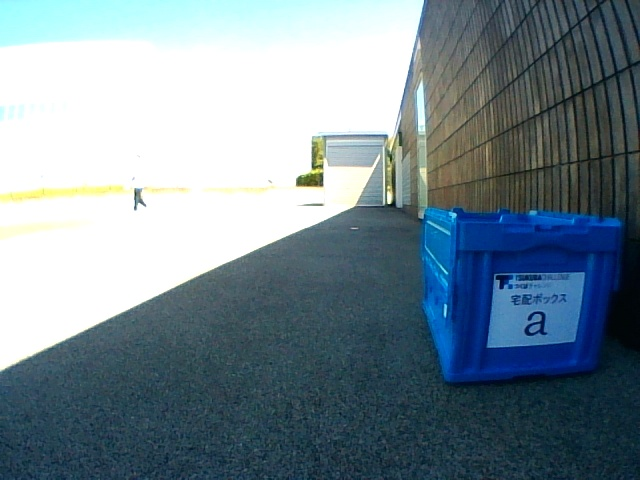blue_box: (422, 207, 622, 382)
tag_a: (497, 277, 573, 340)
